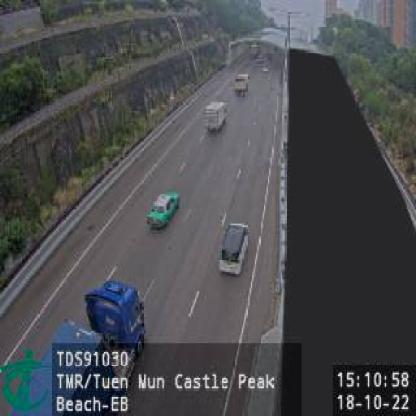Car: (217, 221, 250, 278), (146, 190, 182, 230)
Truck: (0, 282, 146, 416), (204, 99, 228, 133), (234, 72, 250, 98)
